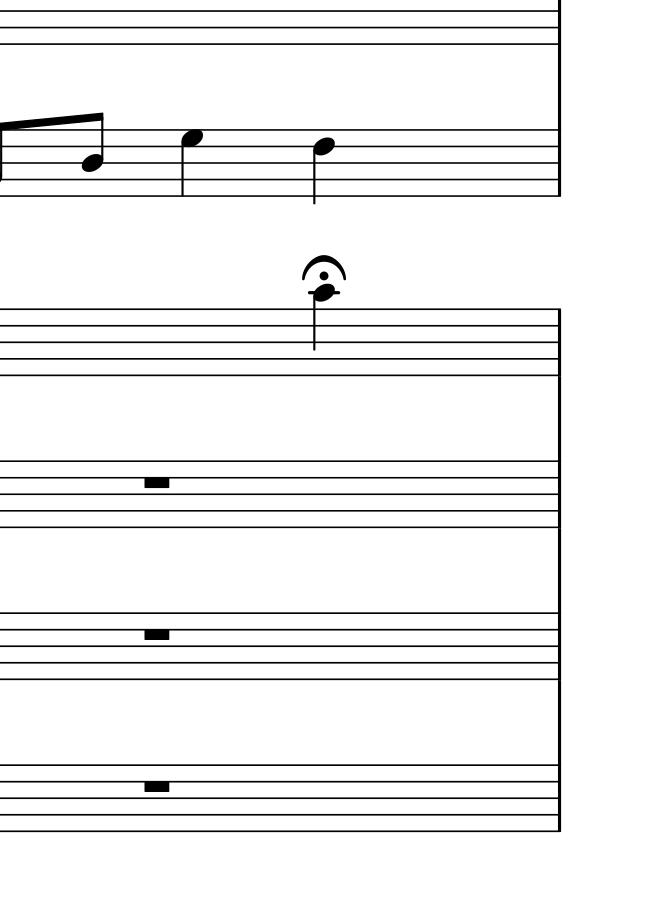4_10: (309, 284, 339, 379)
4_6: (310, 127, 337, 206)
4_7: (177, 127, 207, 199)
8_4: (79, 111, 105, 199)
Rests1: (139, 775, 174, 798), (138, 472, 176, 493), (139, 624, 174, 645)
Single_barline: (549, 460, 567, 529), (550, 130, 567, 196), (550, 765, 567, 831), (551, 307, 566, 379), (550, 613, 566, 680), (552, 1, 566, 45)
